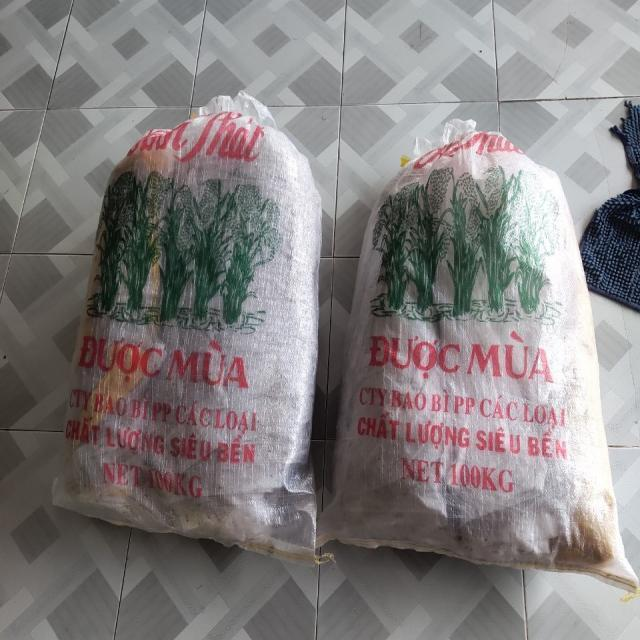gunny_bag: (319, 120, 639, 592), (53, 91, 320, 565)
